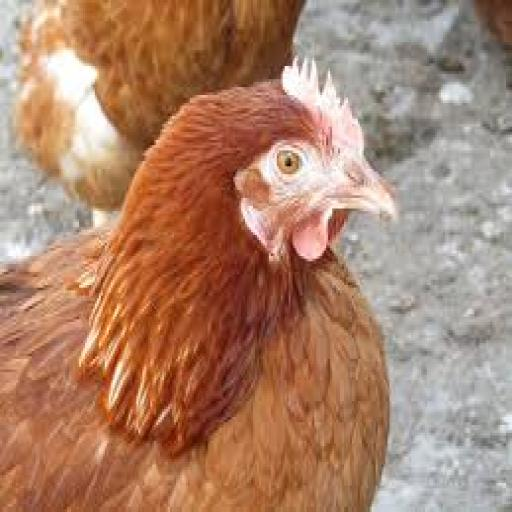healthy: (246, 41, 374, 278)
